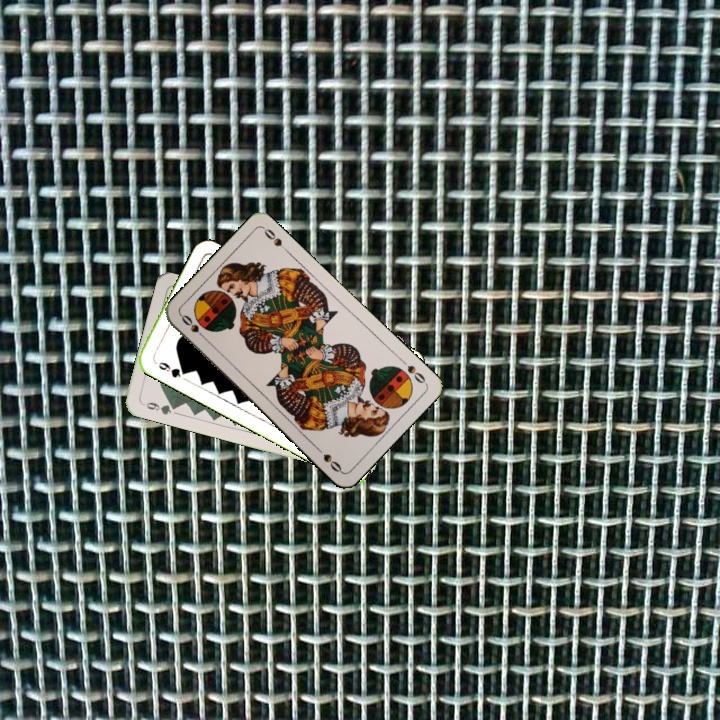G9: (138, 398, 180, 417), (154, 358, 189, 380)
SO: (177, 311, 210, 343), (403, 361, 429, 386)
